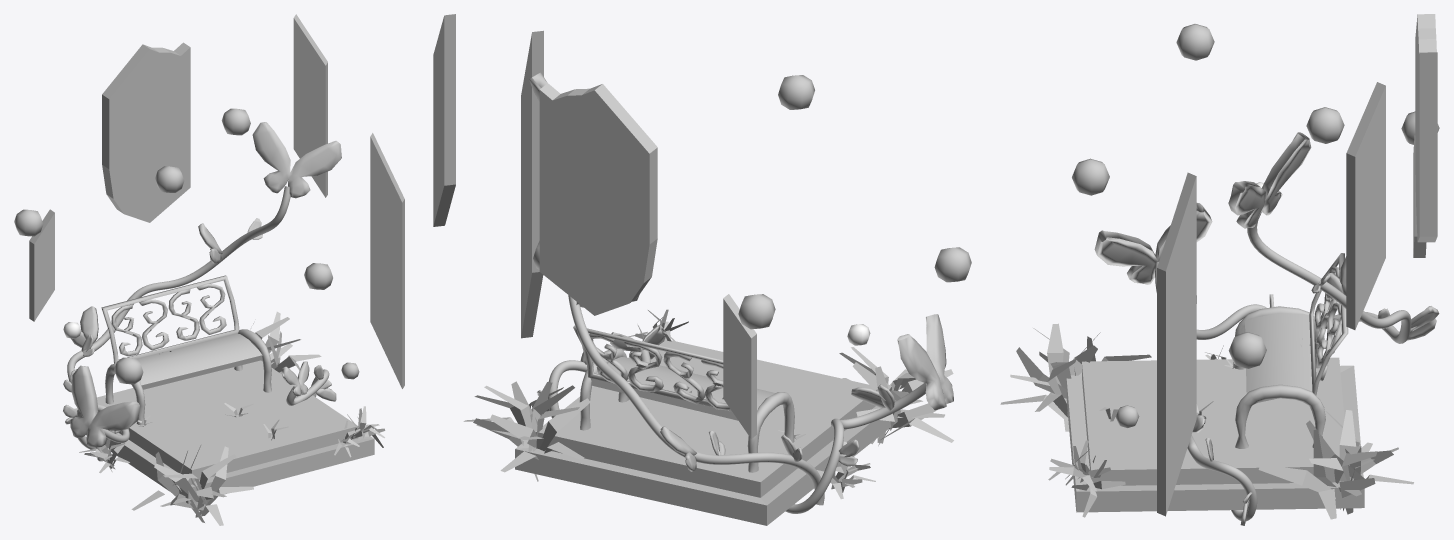
Rendered from hw_banca.obj.
The picture shows the model from 3 angles, left to right: view 1: azimuth 30°, elevation 25°; view 2: azimuth 150°, elevation 25°; view 3: azimuth 270°, elevation 25°; orthographic projection. The views are drawn at different scales.
Visible parts, largest first — view 1: v1_None.001; view 2: v1_None.001; view 3: v1_None.001.
Part boxes in pixels (left/top/right/bottom): v1_None.001: left=14, top=14, right=404, bottom=525; v1_None.001: left=433, top=14, right=971, bottom=525; v1_None.001: left=1000, top=14, right=1439, bottom=525.
Size of the model in its own units: 11.66 by 12.45 by 10.26.
